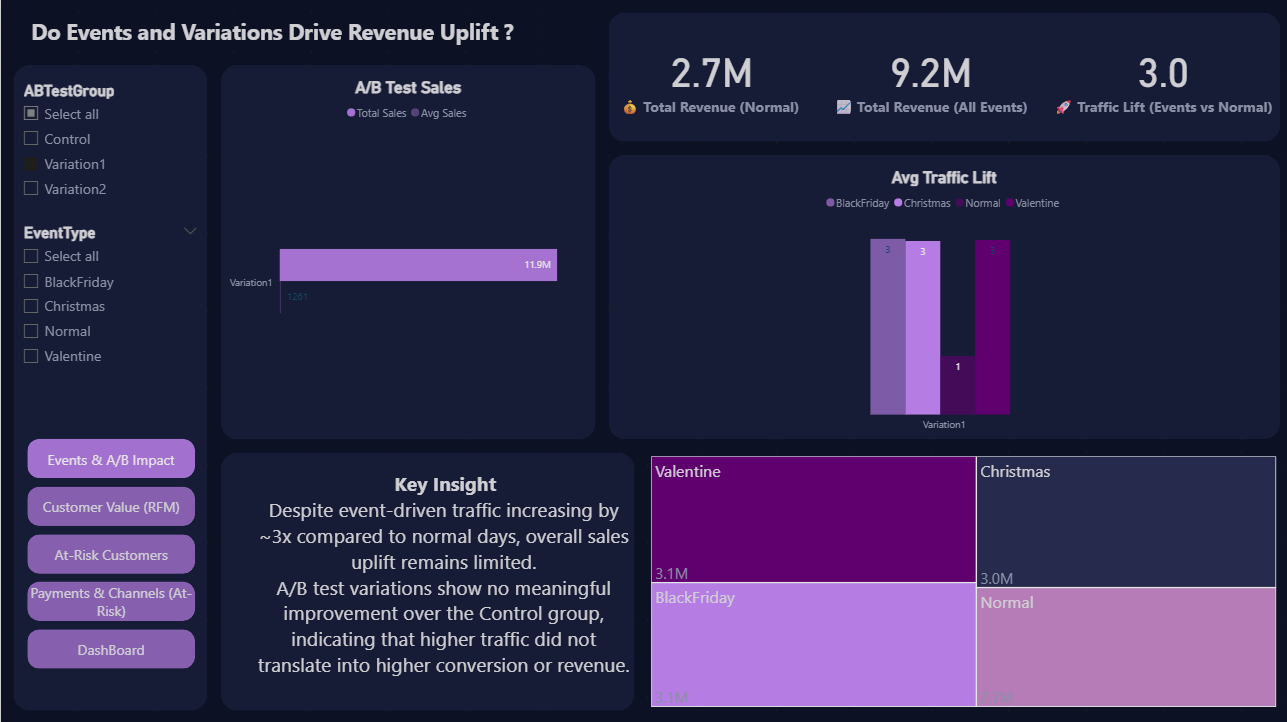

The dashboard page shown, as its layout file describes it:
{"tool":"powerbi","page":{"name":"Events & A/B Impact","canvas":[1600,900],"ordinal":0},"visuals":[{"type":"shape","box":[272,560,512,320],"z":0},{"type":"shape","box":[752,192,832,352],"z":1000},{"type":"shape","box":[752,16,832,160],"z":2000},{"type":"shape","box":[16,80,240,800],"z":3000},{"type":"shape","box":[272,80,464,464],"z":4000},{"type":"treemap","title":"Total Sales ","fields":{"Values":["Sum(transactions.SaleAmountEUR)"],"Group":["transactions.EventType","transactions.ABTestGroup"]},"box":[800,560,784,320],"z":5000},{"type":"clusteredBarChart","title":"A/B Test Sales","fields":{"Category":["transactions.ABTestGroup"],"Y":["Sum(transactions.SaleAmountEUR)","Avg(transactions.SaleAmountEUR)"]},"box":[272,96,464,448],"z":6000},{"type":"clusteredColumnChart","title":"Avg Traffic Lift","fields":{"Category":["transactions.ABTestGroup"],"Y":["Avg(transactions.TrafficMultiplier)"],"Series":["transactions.EventType"]},"box":[752,208,832,336],"z":7000},{"type":"card","fields":{"Values":["Measure Table (2).TrafficEventToNormal"]},"box":[1296,16,288,160],"z":8000},{"type":"slicer","fields":{"Values":["transactions.ABTestGroup"]},"box":[16,96,240,160],"z":10000},{"type":"slicer","fields":{"Values":["transactions.EventType"]},"box":[16,272,240,208],"z":11000},{"type":"card","fields":{"Values":["Measure Table.Total Sales (Normal)"]},"box":[752,16,256,160],"z":12000},{"type":"card","fields":{"Values":["Measure Table.Total Sales (Events)"]},"box":[1008,16,288,160],"z":13000},{"type":"textbox","box":[32,16,672,64],"z":14000},{"type":"textbox","box":[272,560,512,320],"z":15000},{"type":"pageNavigator","box":[32,544,208,288],"z":15005}]}

Visuals, with their boxes in screenshot pixels (x1, y1, x2, y2), scaled from the page's 1600x900 canvas onto the 1287x722 screenshot:
shape: pyautogui.locateOnScreen(219, 449, 631, 706)
shape: pyautogui.locateOnScreen(605, 154, 1274, 436)
shape: pyautogui.locateOnScreen(605, 13, 1274, 141)
shape: pyautogui.locateOnScreen(13, 64, 206, 706)
shape: pyautogui.locateOnScreen(219, 64, 592, 436)
"Total Sales " treemap: pyautogui.locateOnScreen(644, 449, 1274, 706)
"A/B Test Sales" clusteredBarChart: pyautogui.locateOnScreen(219, 77, 592, 436)
"Avg Traffic Lift" clusteredColumnChart: pyautogui.locateOnScreen(605, 167, 1274, 436)
card - Measure Table (2).TrafficEventToNormal: pyautogui.locateOnScreen(1042, 13, 1274, 141)
slicer - transactions.ABTestGroup: pyautogui.locateOnScreen(13, 77, 206, 205)
slicer - transactions.EventType: pyautogui.locateOnScreen(13, 218, 206, 385)
card - Measure Table.Total Sales (Normal): pyautogui.locateOnScreen(605, 13, 811, 141)
card - Measure Table.Total Sales (Events): pyautogui.locateOnScreen(811, 13, 1042, 141)
textbox: pyautogui.locateOnScreen(26, 13, 566, 64)
textbox: pyautogui.locateOnScreen(219, 449, 631, 706)
pageNavigator: pyautogui.locateOnScreen(26, 436, 193, 667)
